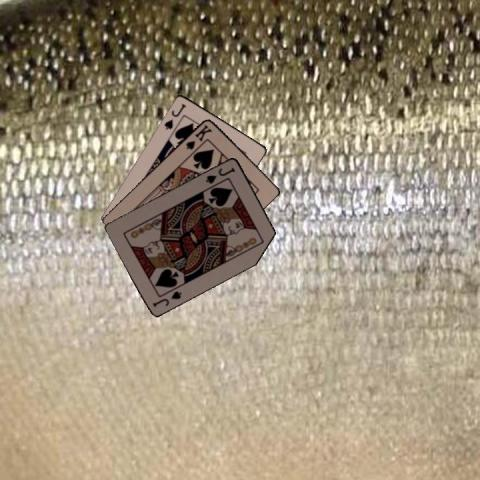Js: (162, 100, 188, 131), (150, 287, 184, 309), (202, 164, 236, 185)
Ks: (183, 121, 213, 151)
